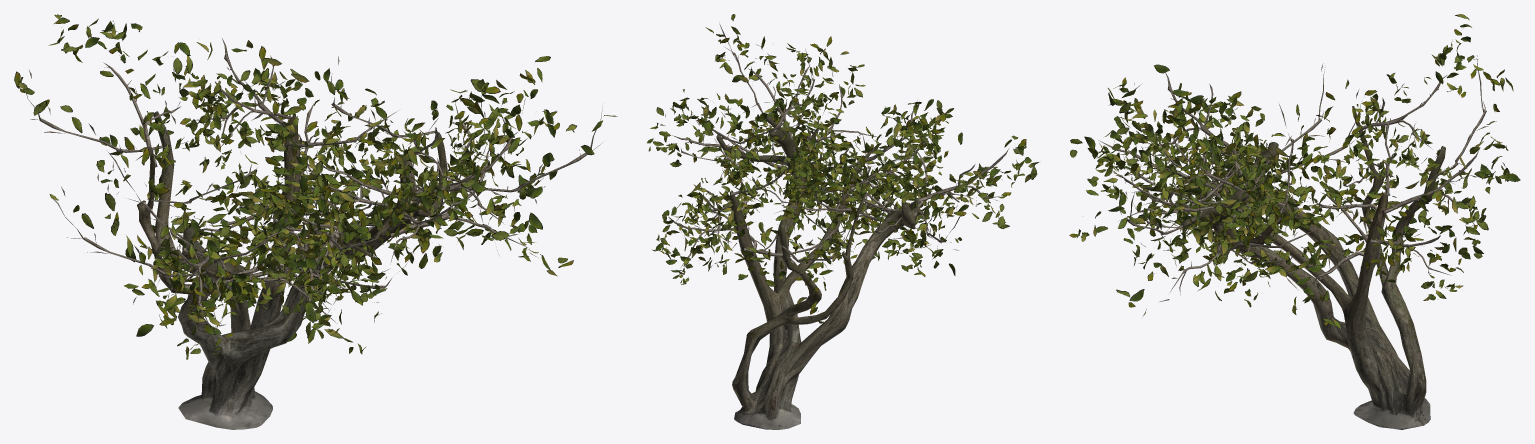
File: tree.glb
3 renders of one model, left to right at view 1: azimuth 30°, elevation 25°; view 2: azimuth 150°, elevation 25°; view 3: azimuth 270°, elevation 25°, orthographic. The views are drawn at different scales.
Parts seen in each view (by area): view 1: island_tree_02_LOD0; view 2: island_tree_02_LOD0; view 3: island_tree_02_LOD0.
Boxes of the visible parts, box(x1,y1,x2,y2) form: island_tree_02_LOD0: box(14, 14, 617, 429); island_tree_02_LOD0: box(647, 14, 1039, 429); island_tree_02_LOD0: box(1069, 14, 1520, 429).
Size of the model in its own units: 3.97 by 3.4 by 4.06.
Materials: 3 (3 with a texture image).
